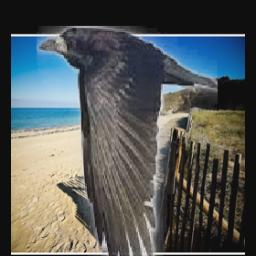Crow: (37, 27, 218, 256)
